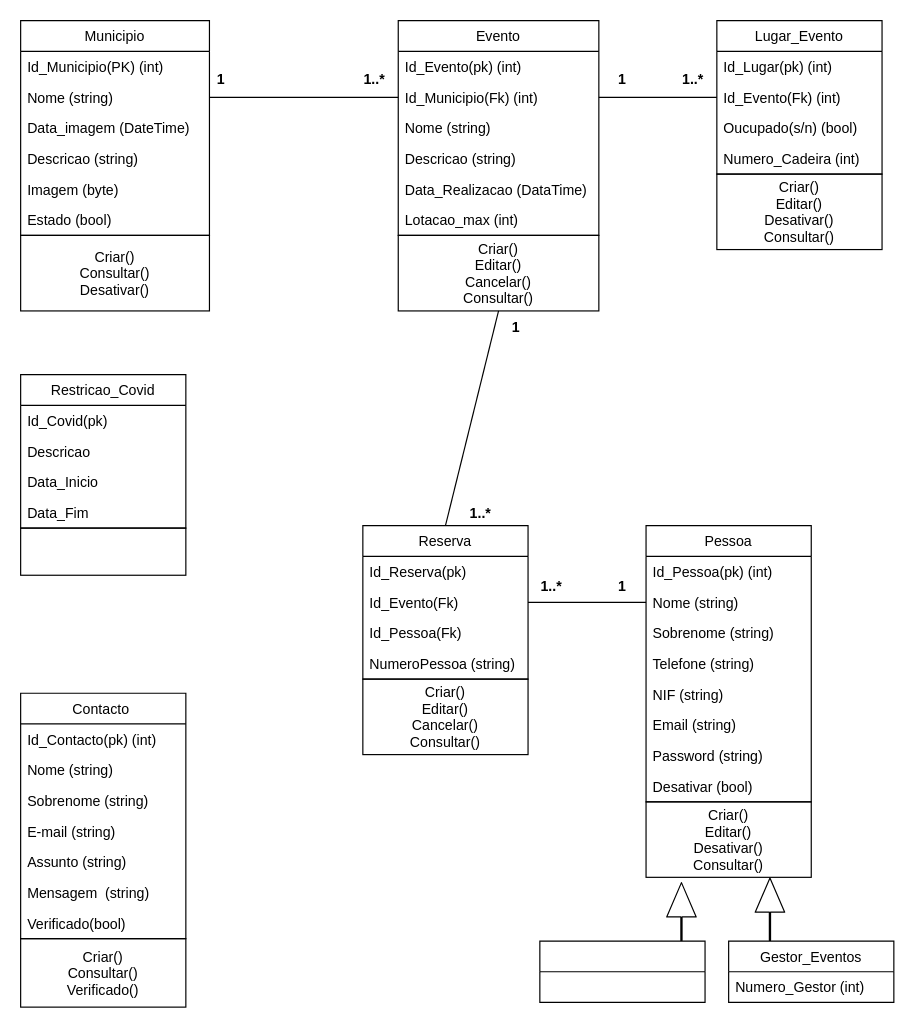
The diagram is 914 pixels wide and 1028 high, and some of its shapes have lost their labels. Each missing label, with the centre of its shape:
"Criar() Consultar()" goes at point 102,551.
"Turista" goes at point 622,971.
